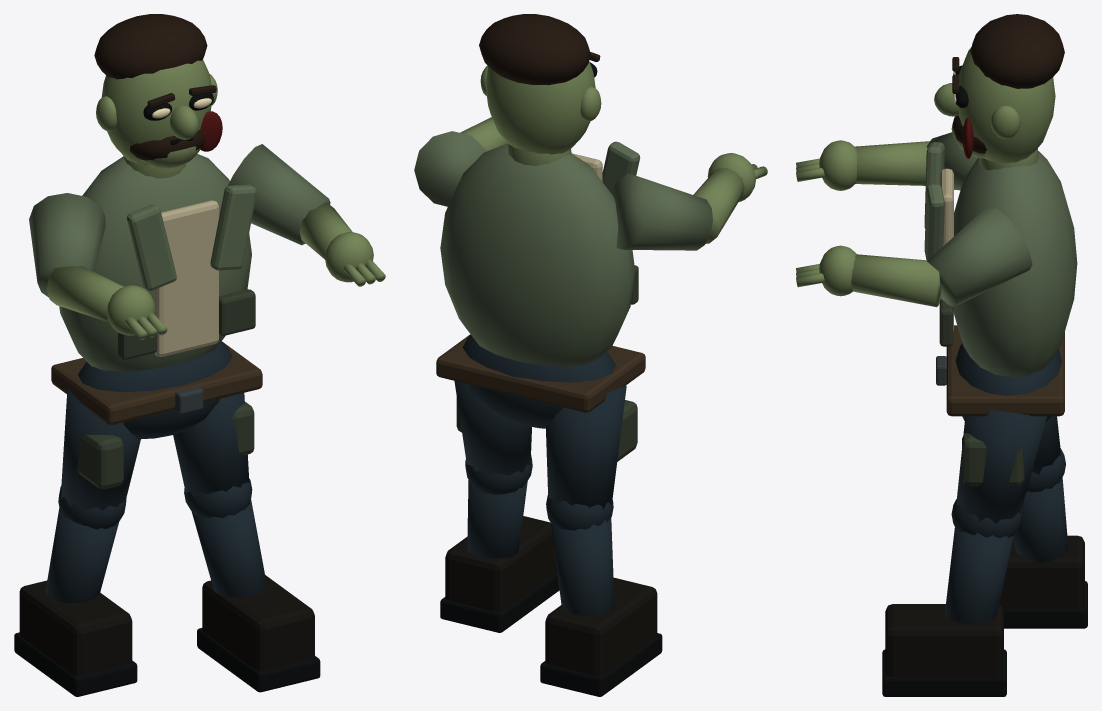
The model's file is walker.glb.
3 renders of one model, left to right at view 1: azimuth 30°, elevation 25°; view 2: azimuth 150°, elevation 25°; view 3: azimuth 270°, elevation 25°, orthographic.
Visible parts, largest first — view 1: walker; view 2: walker; view 3: walker.
Part boxes in pixels (x1,y1,x2,y2): walker: [14, 14, 385, 696]; walker: [414, 14, 767, 696]; walker: [796, 14, 1087, 696].
Size of the model in its own units: 0.5327 by 1.11 by 0.4686.
